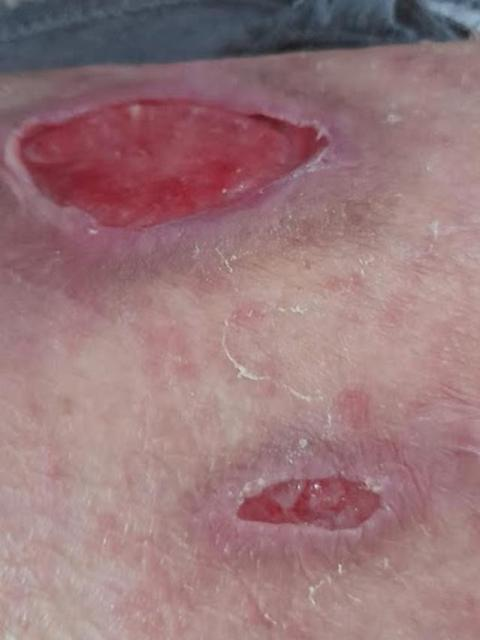wound: (11, 99, 328, 231), (236, 473, 383, 531)
